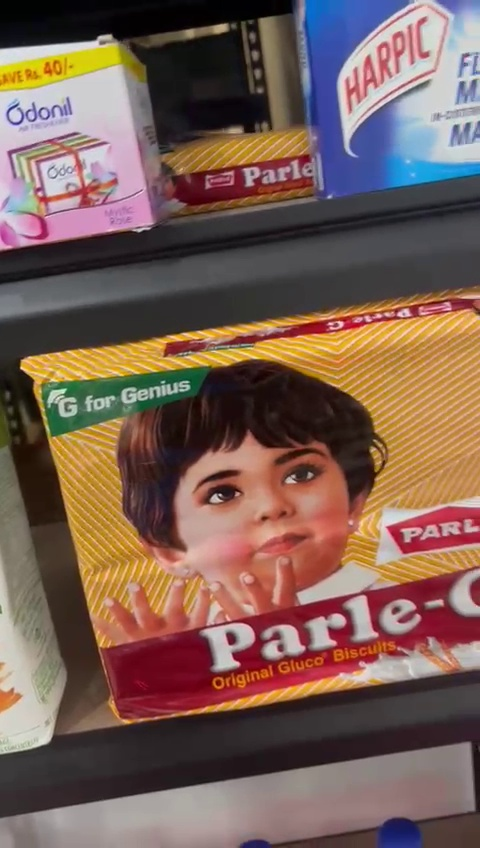Parle-G: (11, 304, 480, 721)
